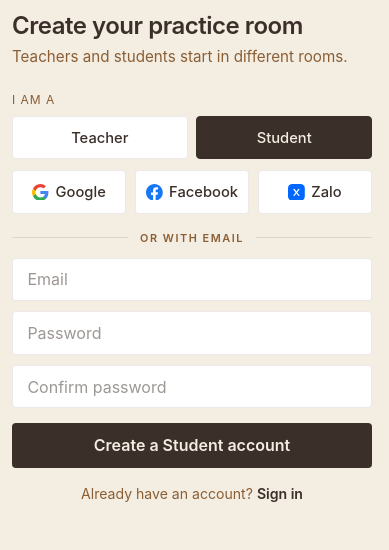
it: SignupForm › does not bind a leftover session when the new account has no session yet
Step 1. Type "new@studio.test" into the field labelled "Email" → x=192, y=279, box [12,258,372,301]
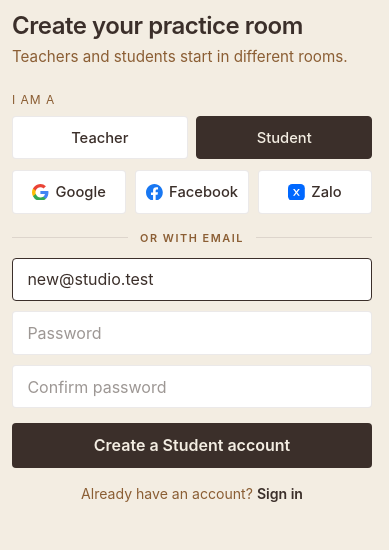
Step 2. Type "secret1" into the password field labelled "Password" → x=192, y=333, box [12,311,372,355]
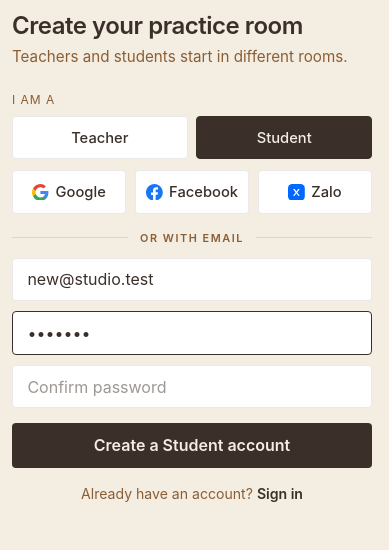
Step 3. Type "secret1" into the password field labelled "Confirm password" → x=192, y=387, box [12,365,372,408]
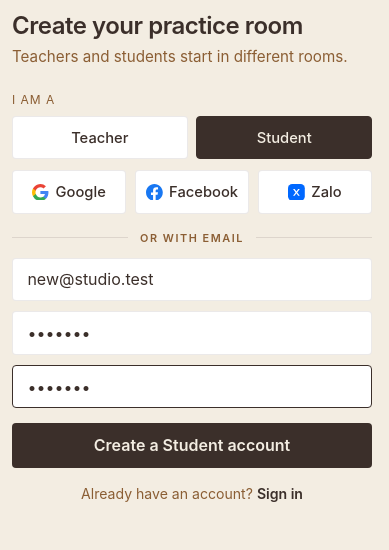
Step 4. Click the button "Create a Student account" → x=192, y=445, box [12,423,372,468]
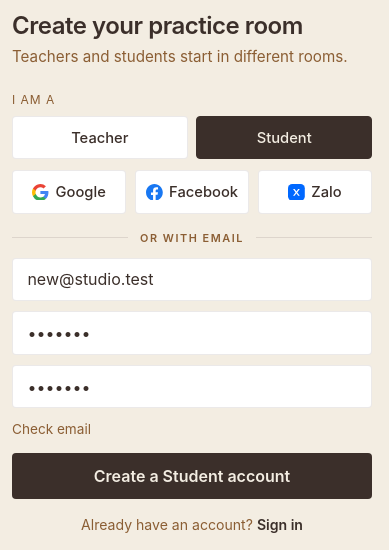
Check: the text "Check email" is shown, box [12,421,91,437]
